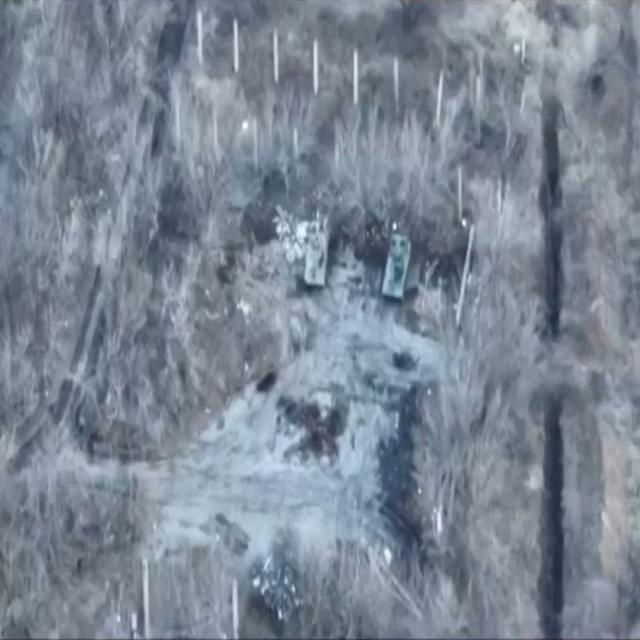cars: (382, 234, 411, 299), (304, 221, 328, 287)
